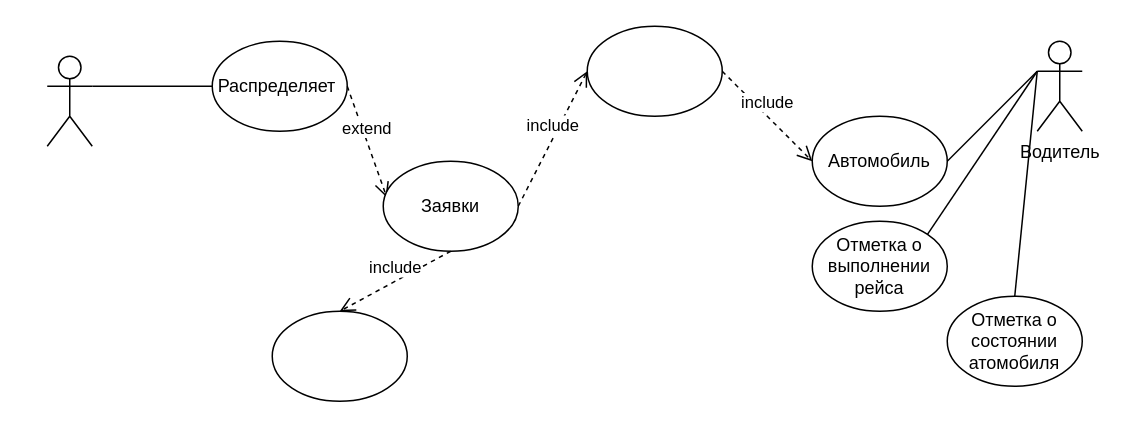
The diagram is 1125 pixels wide and 428 high, and some of its shapes have lost their labels. Here are the shapes that lost their labels. From the top down, the centre of each, then its label:
At point (654, 70): "Рейс".
At point (69, 100): "Диспетчер".
At point (339, 355): "Характеристики автомобиля".
